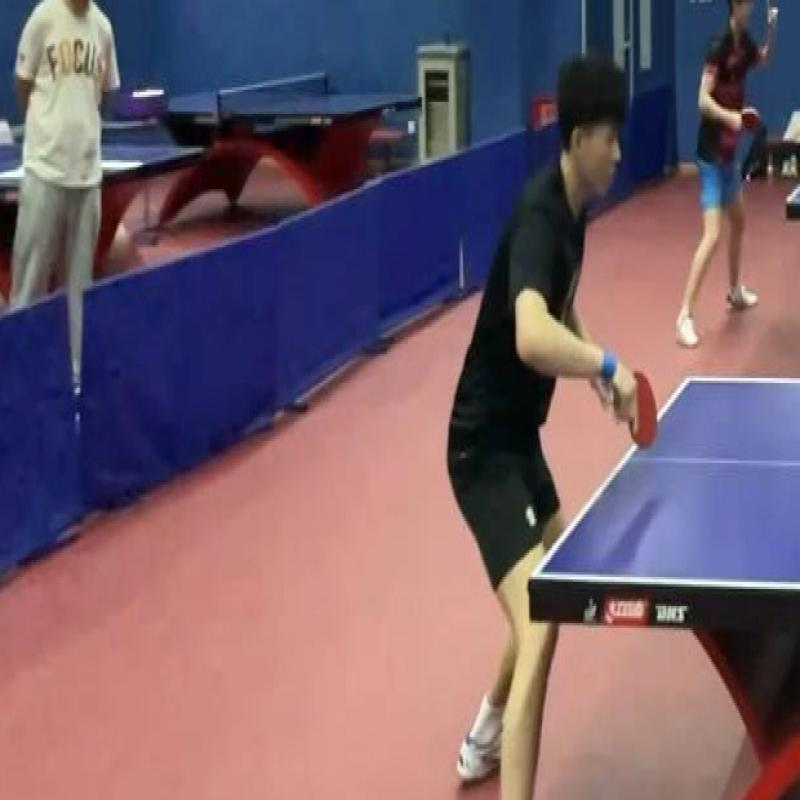bats: (612, 354, 667, 465)
